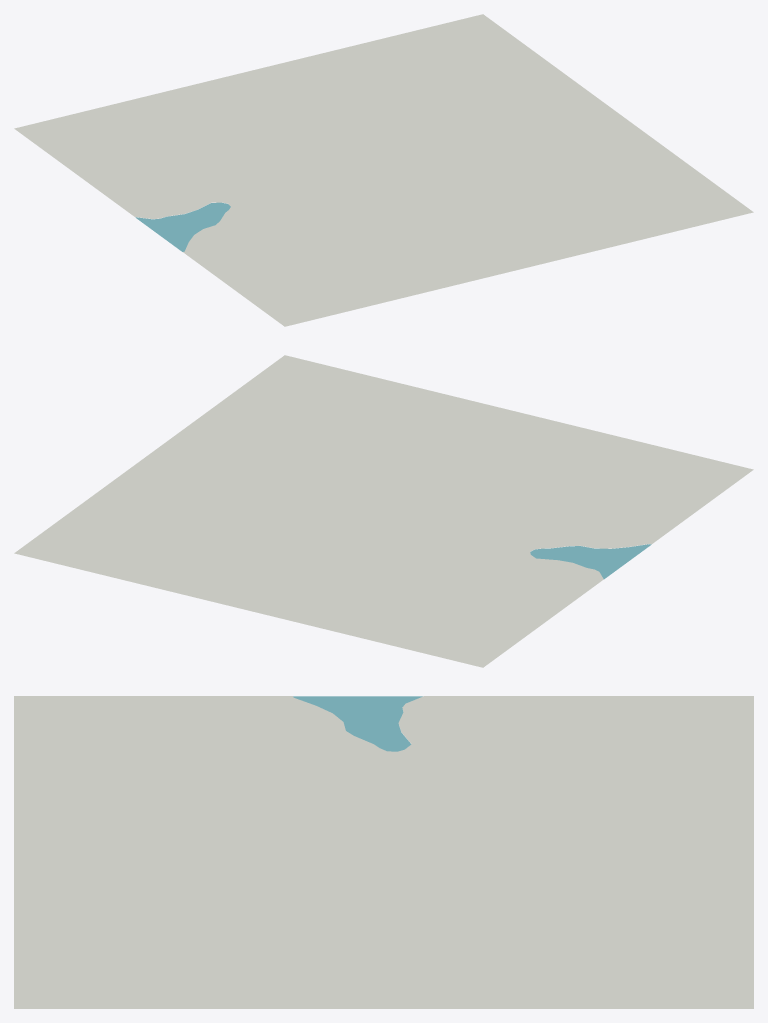
The picture shows the model from 3 angles, top to bottom: view 1: azimuth 30°, elevation 25°; view 2: azimuth 150°, elevation 25°; view 3: azimuth 270°, elevation 25°; orthographic projection. The views are drawn at different scales.
Visible parts, largest first — view 1: city; view 2: city; view 3: city.
Boxes of the visible parts, box(x1,y1,x2,y2) form: city: box(14, 14, 753, 326); city: box(14, 355, 753, 667); city: box(14, 696, 753, 1008).
Size of the model in its own units: 500 by 0.18 by 500.
